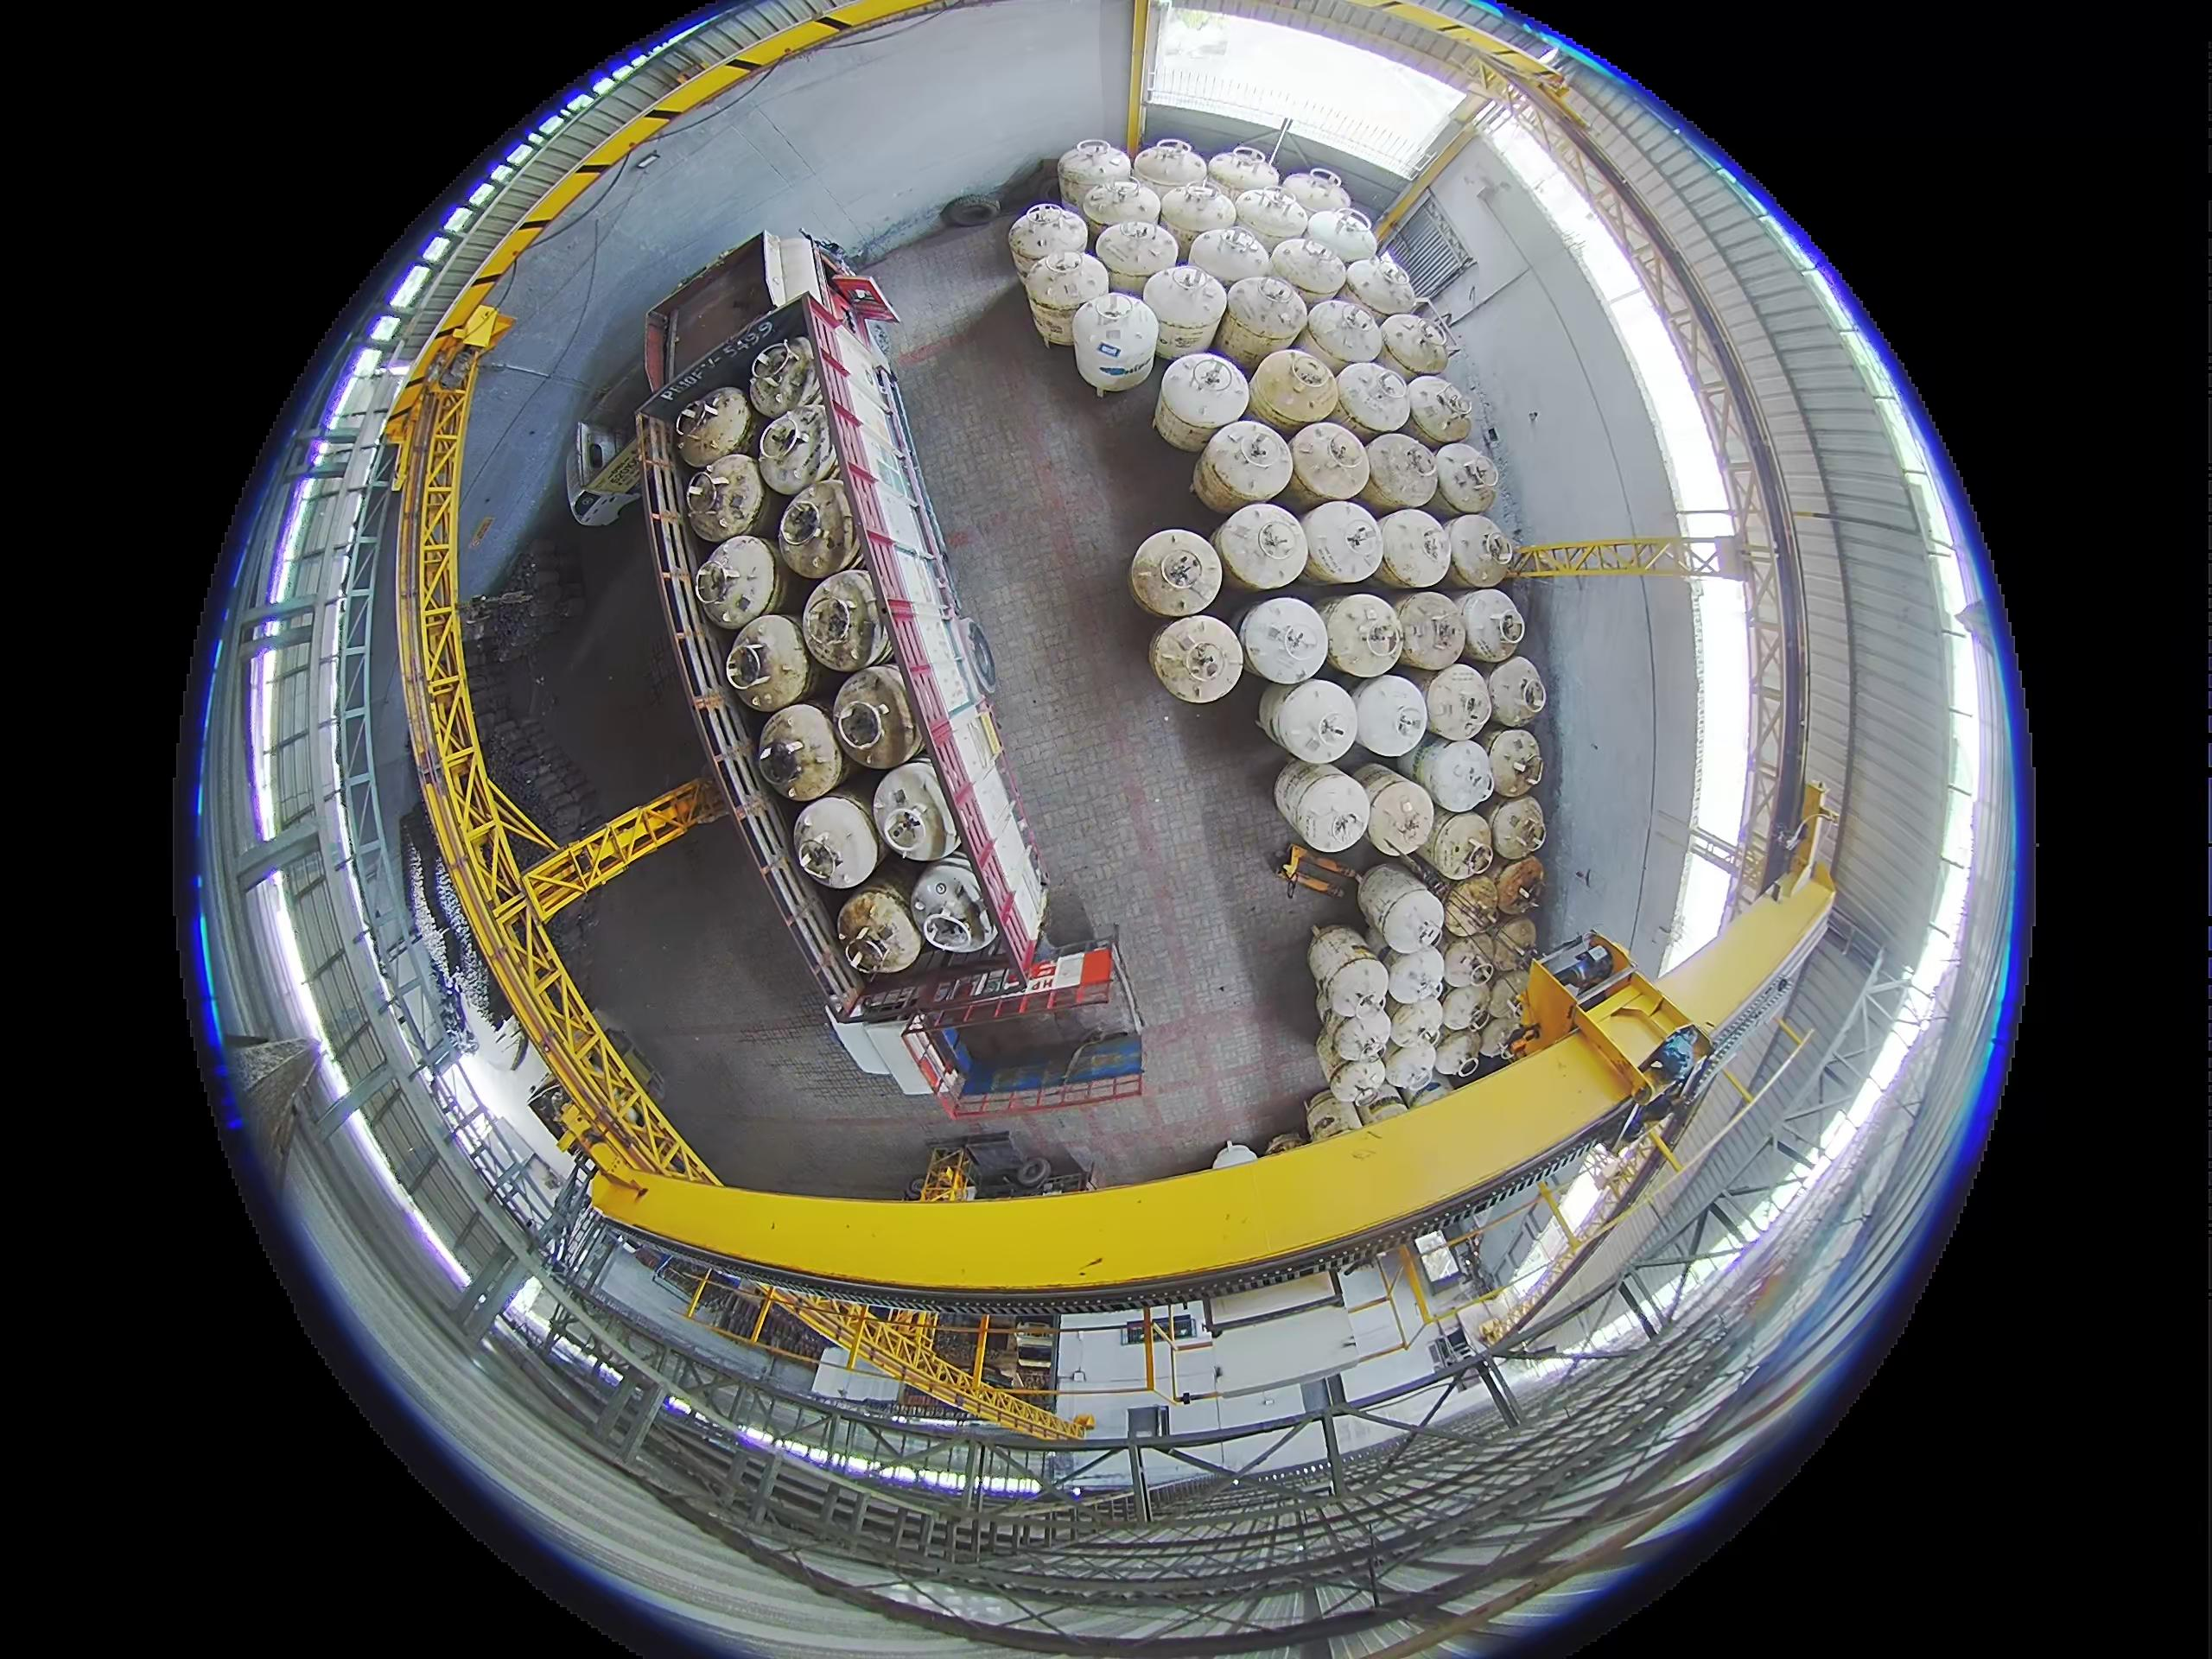cylinder: (1155, 355, 1251, 457), (1211, 500, 1308, 596), (1071, 291, 1160, 396), (1193, 420, 1291, 514), (756, 702, 850, 800), (1216, 274, 1306, 373), (873, 762, 961, 863), (726, 610, 819, 706), (1355, 861, 1449, 953), (1275, 763, 1369, 856), (1129, 528, 1223, 619), (1249, 347, 1339, 441), (693, 532, 784, 624), (1150, 615, 1244, 704), (792, 796, 881, 889), (777, 477, 860, 575), (681, 453, 770, 544), (1238, 596, 1329, 685), (911, 864, 998, 955), (1141, 263, 1226, 355), (1353, 763, 1439, 856), (1264, 680, 1357, 763), (1015, 249, 1094, 347), (754, 404, 834, 497), (1318, 594, 1404, 678), (1289, 422, 1372, 507), (840, 889, 921, 976), (1352, 673, 1433, 758), (1409, 735, 1493, 817), (672, 385, 752, 471), (1362, 432, 1442, 512), (1374, 507, 1453, 589), (1332, 361, 1411, 441), (749, 336, 824, 420), (1392, 592, 1468, 673), (1188, 223, 1273, 295), (1418, 807, 1496, 884), (1157, 181, 1237, 254), (1421, 660, 1494, 741), (1305, 296, 1383, 369), (1096, 218, 1176, 289), (1008, 202, 1083, 275), (1082, 179, 1160, 249), (1433, 441, 1501, 518), (1270, 237, 1348, 303), (1404, 375, 1474, 448), (1059, 139, 1132, 209), (1456, 589, 1524, 664), (1444, 512, 1512, 587), (1345, 256, 1423, 321), (1235, 186, 1310, 253), (1378, 314, 1451, 380), (1303, 207, 1378, 270), (1130, 138, 1207, 199), (1324, 958, 1393, 1023), (1442, 875, 1507, 941), (1484, 657, 1547, 725), (1383, 948, 1449, 1011), (1207, 146, 1282, 200), (1486, 728, 1545, 796), (1487, 795, 1547, 861), (1327, 1004, 1392, 1061), (1278, 167, 1350, 218), (1493, 856, 1547, 918), (1439, 938, 1496, 995), (1386, 999, 1446, 1054), (1383, 1039, 1440, 1094), (1437, 983, 1491, 1035), (1433, 1028, 1484, 1079), (1489, 917, 1540, 965), (1486, 974, 1529, 1026), (1479, 1012, 1524, 1061), (1357, 1094, 1409, 1129)
truck: (634, 235, 1143, 1091), (824, 967, 1158, 1138), (782, 1002, 1167, 1133), (561, 373, 648, 526), (1026, 1037, 1028, 1042)
